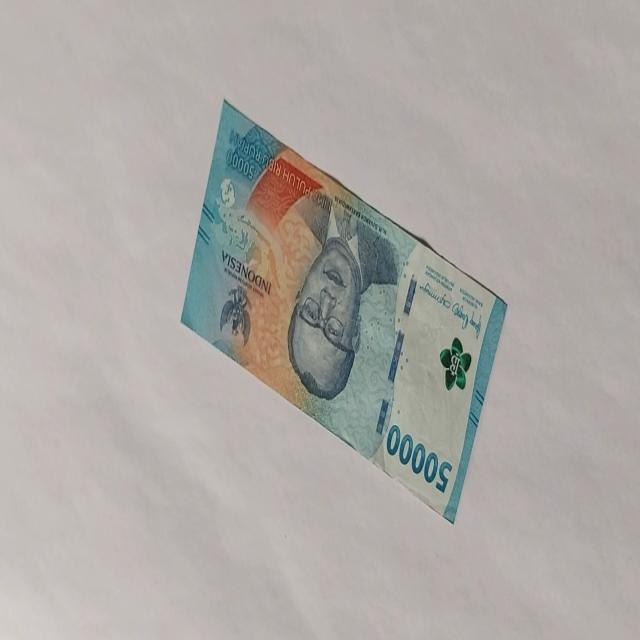lima puluh ribu rupiah: (180, 97, 508, 524), (385, 422, 453, 494)
